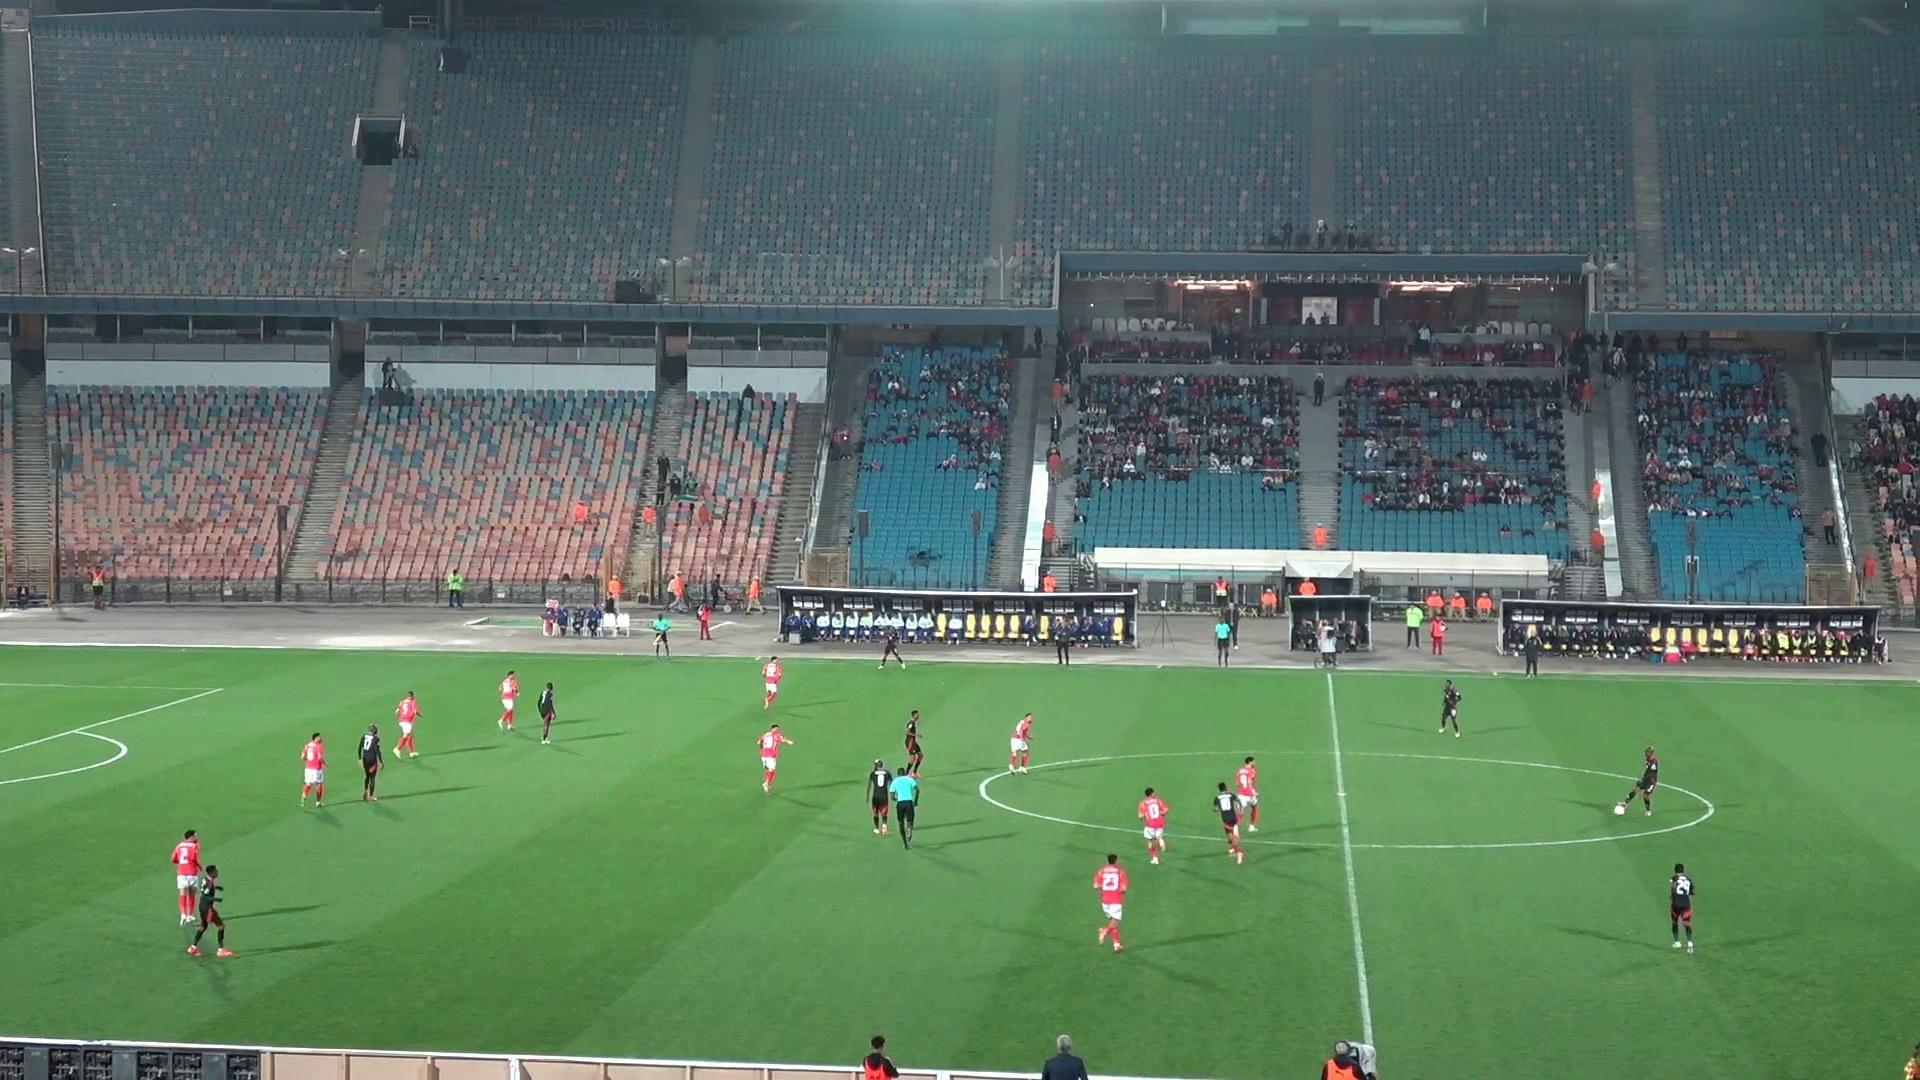Ball: (1613, 799, 1633, 816)
Refree: (887, 762, 919, 848), (1213, 607, 1237, 666), (650, 615, 670, 655)
Team1: (1093, 853, 1127, 951), (171, 829, 202, 926), (1137, 789, 1167, 864), (760, 724, 793, 793), (1233, 756, 1261, 829), (393, 690, 419, 760), (303, 732, 326, 806), (1007, 713, 1031, 773), (497, 670, 520, 731), (761, 655, 782, 709)
Team2: (187, 865, 232, 956), (1613, 746, 1659, 816), (1213, 782, 1244, 864), (1669, 864, 1693, 951), (865, 760, 891, 835), (357, 723, 382, 800), (1437, 679, 1462, 736), (535, 682, 556, 742), (903, 709, 923, 770), (880, 628, 906, 669)
